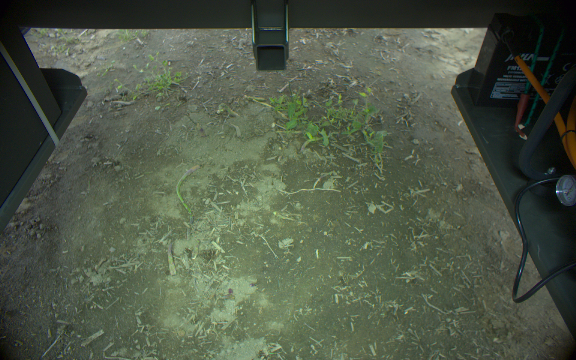aspa: (176, 162, 200, 214), (166, 237, 177, 277)
